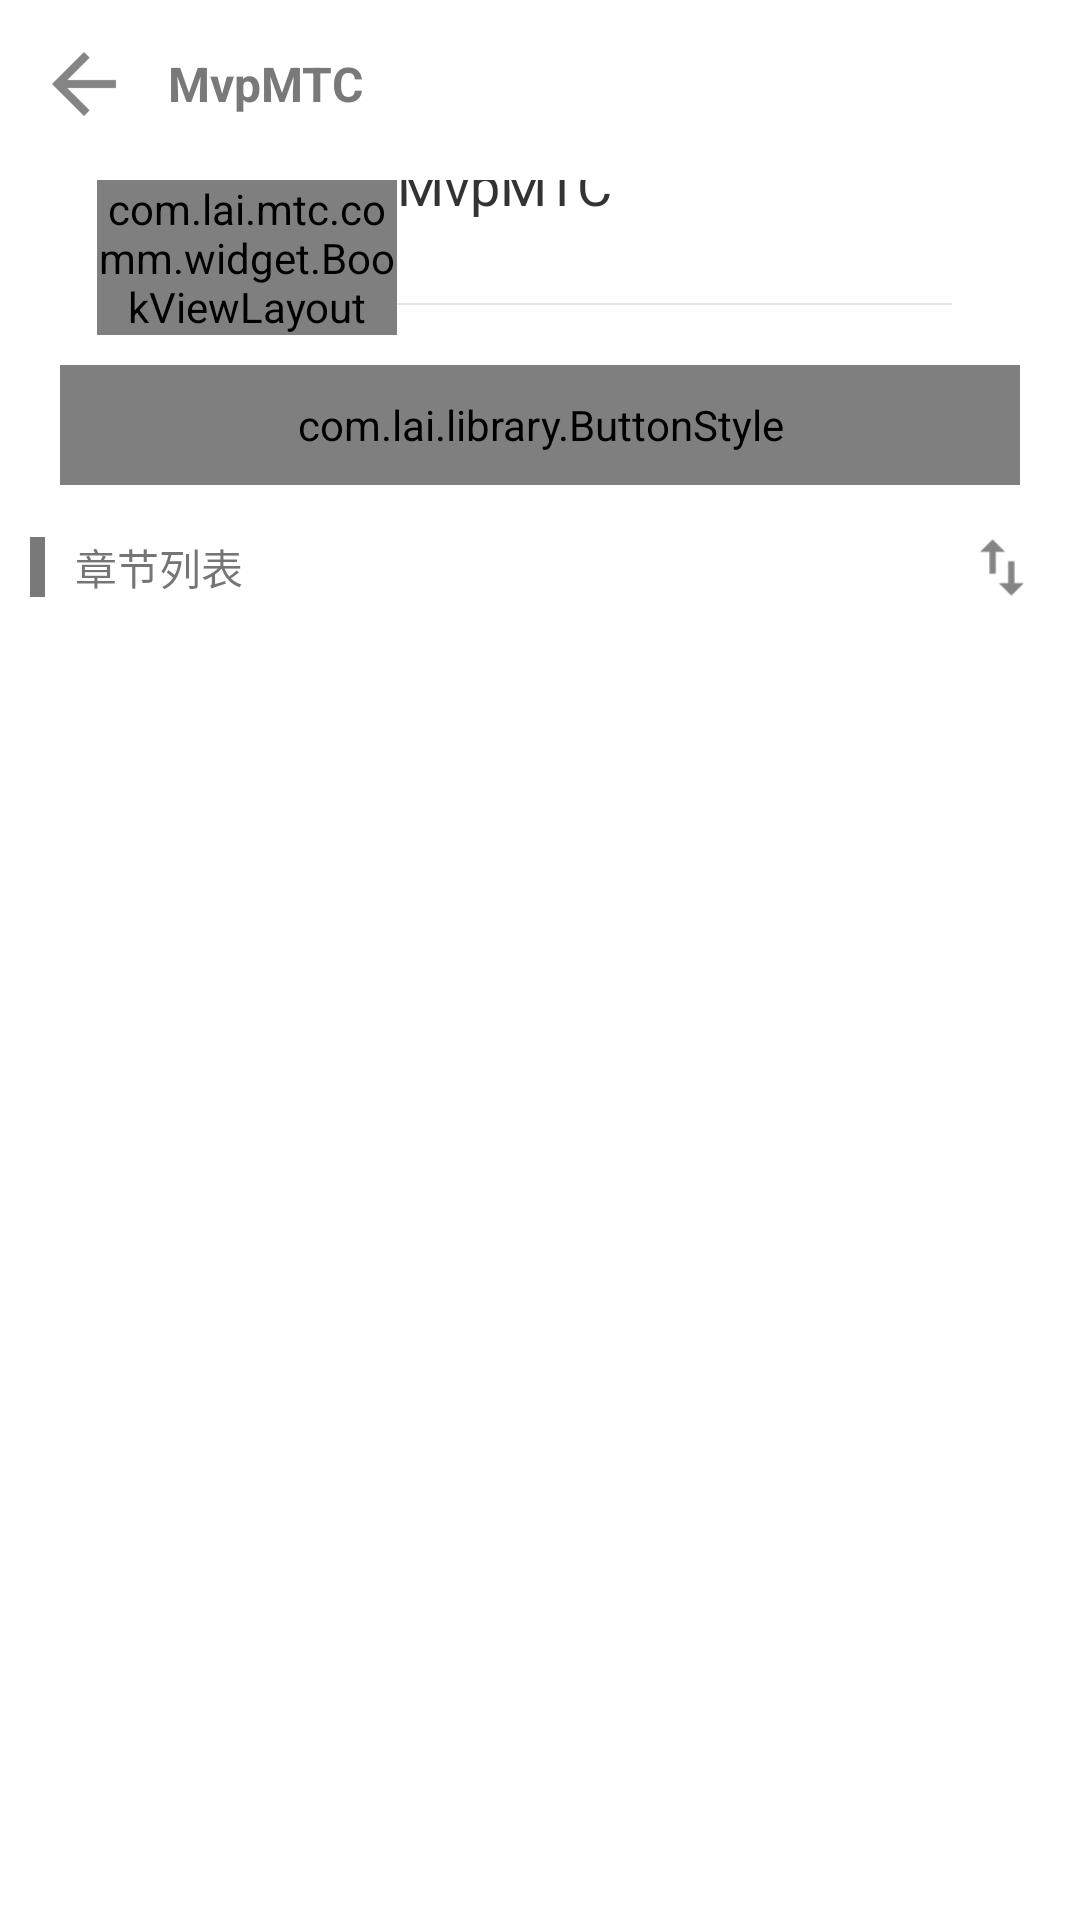

Screen size 1080px×1920px. Icon name, then its center in pixels as (x,y):
sort: (1002,567)
